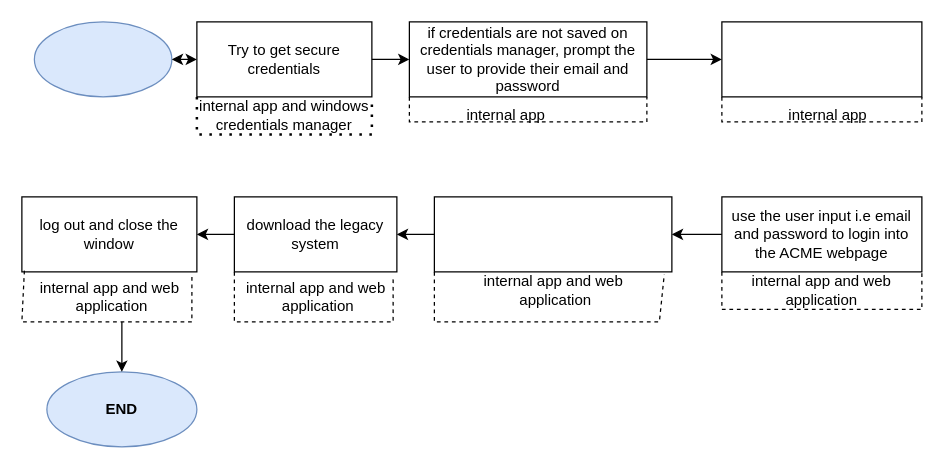
Image size: 945x469. Some labels were removed from this diagram. The shapes that lost their labels are listed below. From the top down, each one's centre as x and y in pixels, then its label:
the point at 102,59: START
the point at 821,59: Terminate the workflow if the user does not provide password and email
the point at 552,234: on the user options, click on download client and support
